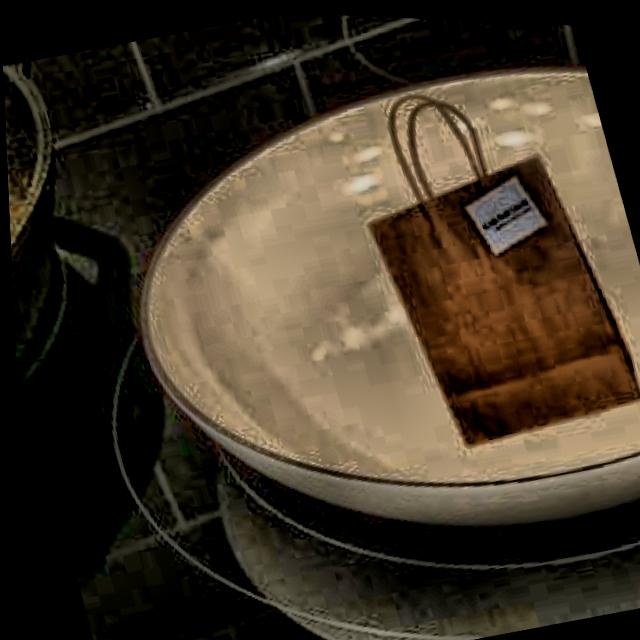Paper-bag: (312, 45, 640, 477)
